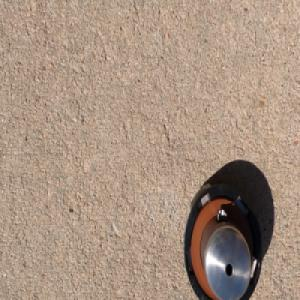FuelCap: (182, 178, 264, 300)
